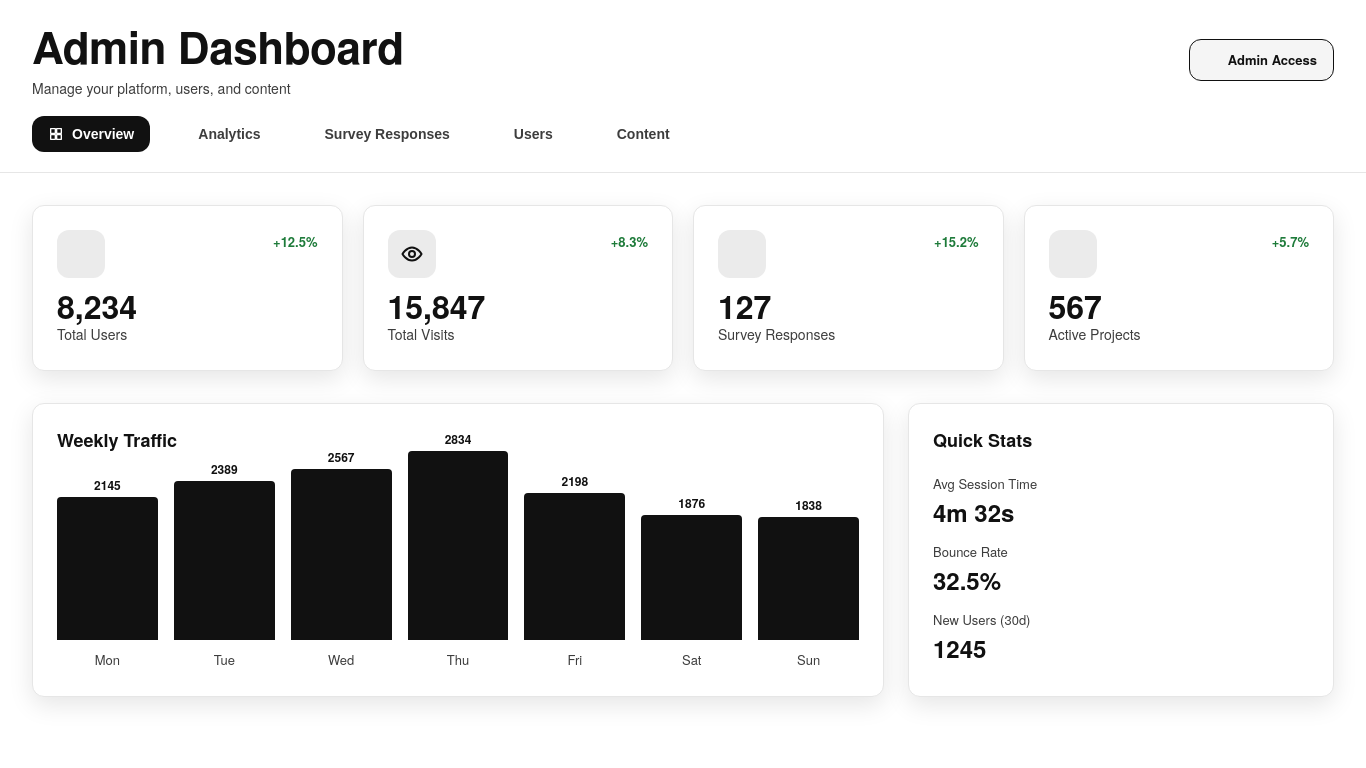
AdminDashboard › shows a user table with recent users when the "Users" tab is clicked
Click the button "Users" at (521, 134), box [474,116,569,152]
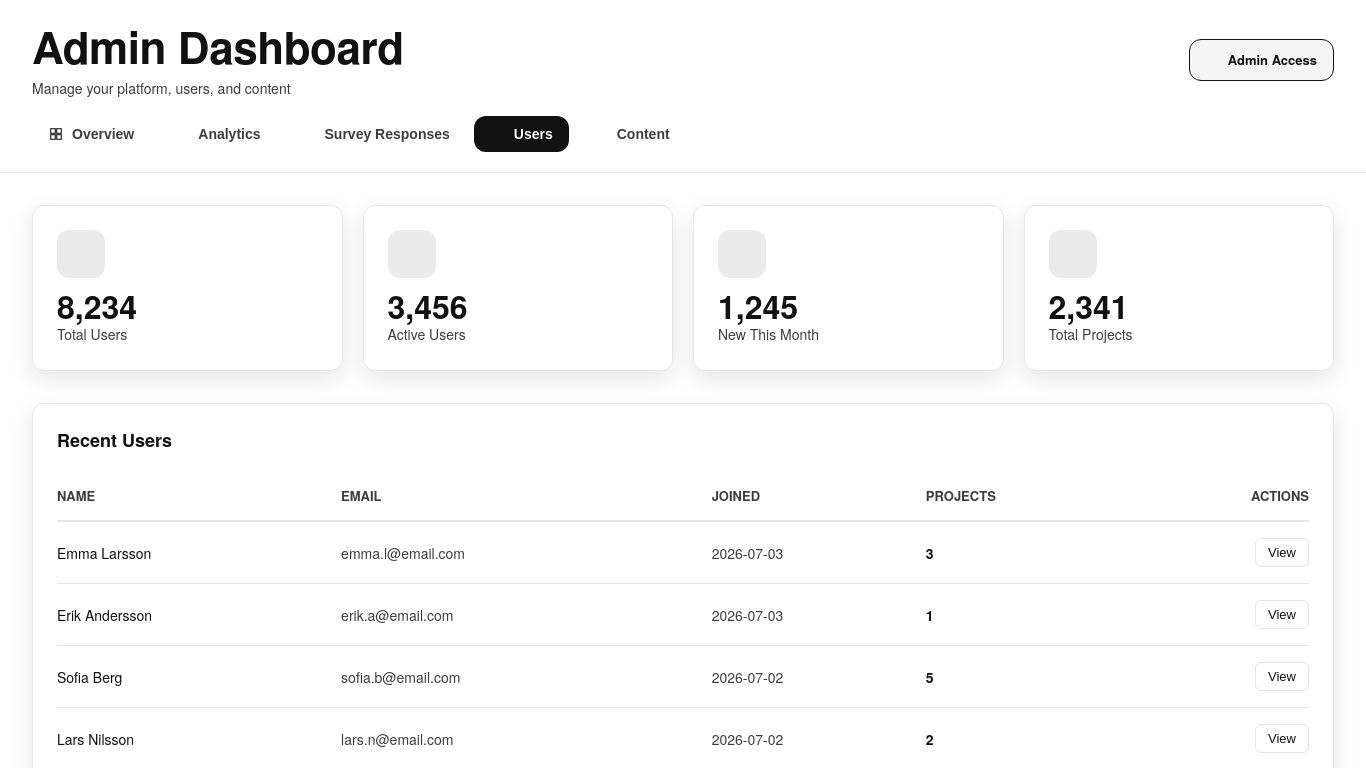
Expected: the heading "Recent Users" is shown, [57,427,172,453]
Expected: the text "Emma Larsson" is shown, [57,521,341,584]
